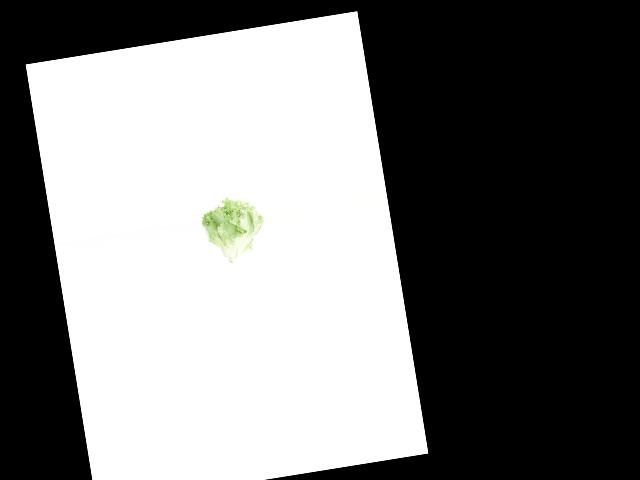lettuce: (197, 193, 271, 267)
